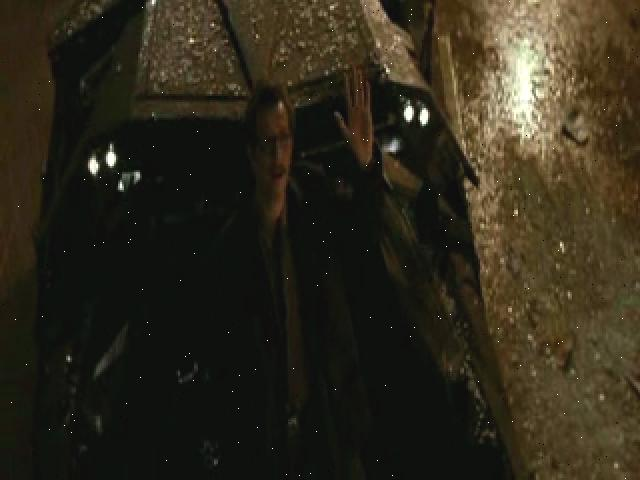L: (133, 81, 390, 480)
